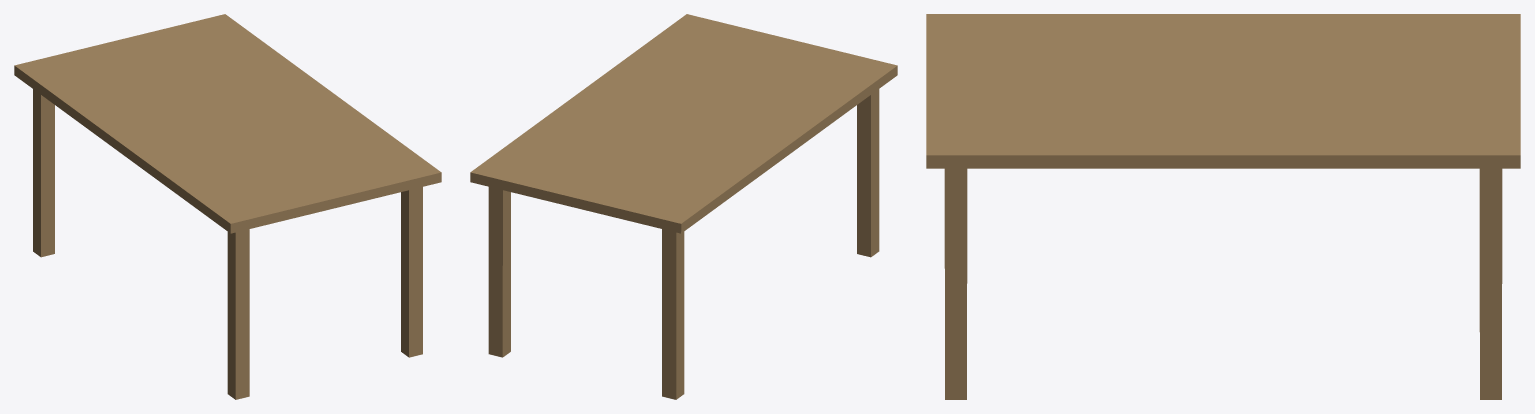
File: table_01.glb
3 renders of one model, left to right at view 1: azimuth 30°, elevation 25°; view 2: azimuth 150°, elevation 25°; view 3: azimuth 270°, elevation 25°, orthographic. The views are drawn at different scales.
Parts seen in each view (by area): view 1: geometry_0; view 2: geometry_0; view 3: geometry_0.
Boxes of the visible parts, <box> form: geometry_0: <box>14,14,441,399</box>; geometry_0: <box>470,14,897,399</box>; geometry_0: <box>926,14,1520,399</box>.
Size of the model in its own units: 0.9003 by 0.7502 by 1.6.
